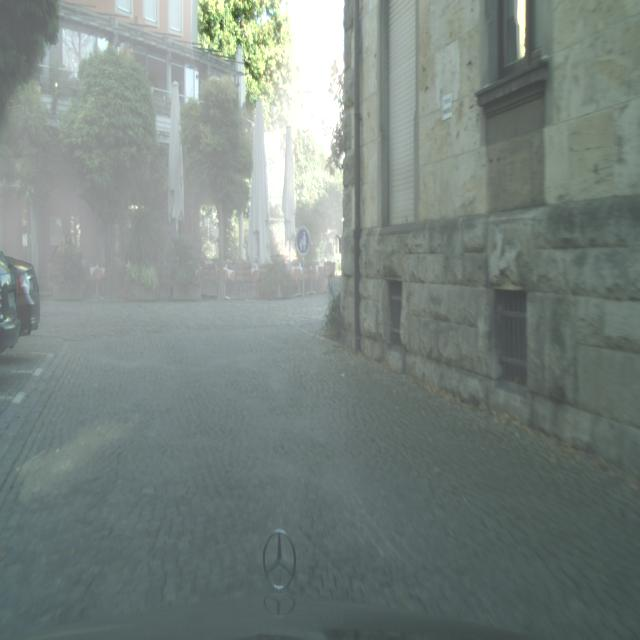bus: (10, 260, 42, 342), (3, 257, 21, 355)
